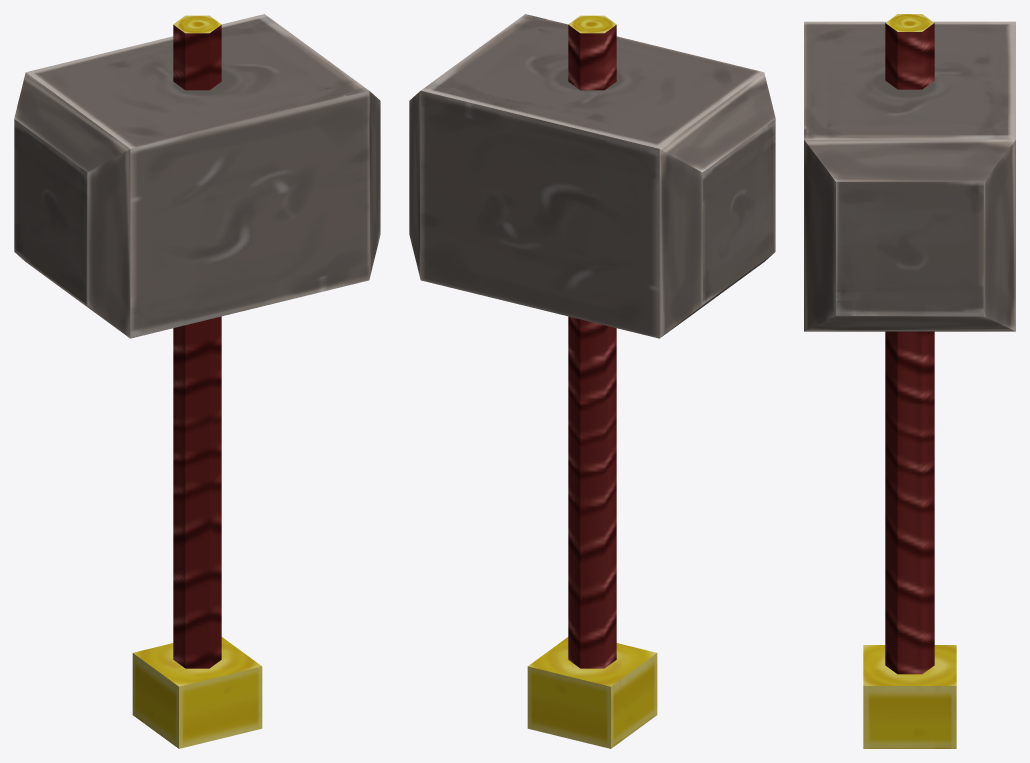
File: hammer.fbx
3 renders of one model, left to right at view 1: azimuth 30°, elevation 25°; view 2: azimuth 150°, elevation 25°; view 3: azimuth 270°, elevation 25°, orthographic.
Parts seen in each view (by area): view 1: Cube; view 2: Cube; view 3: Cube.
Boxes of the visible parts, box(x1,y1,x2,y2) form: Cube: box(14, 14, 380, 748); Cube: box(409, 14, 775, 748); Cube: box(804, 14, 1015, 748).
Bounding box in the file's own units: 1.49 × 3.39 × 0.9218.
Materials: 1 (1 with a texture image).
